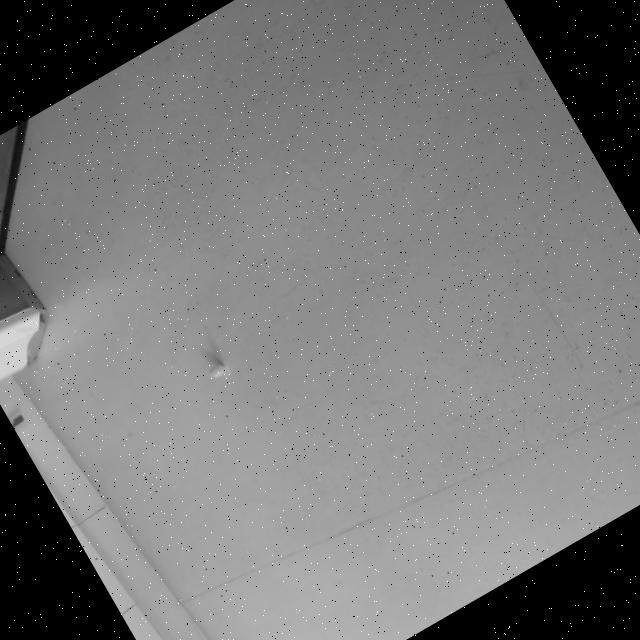ping-pong-ball: (205, 362, 227, 382)
